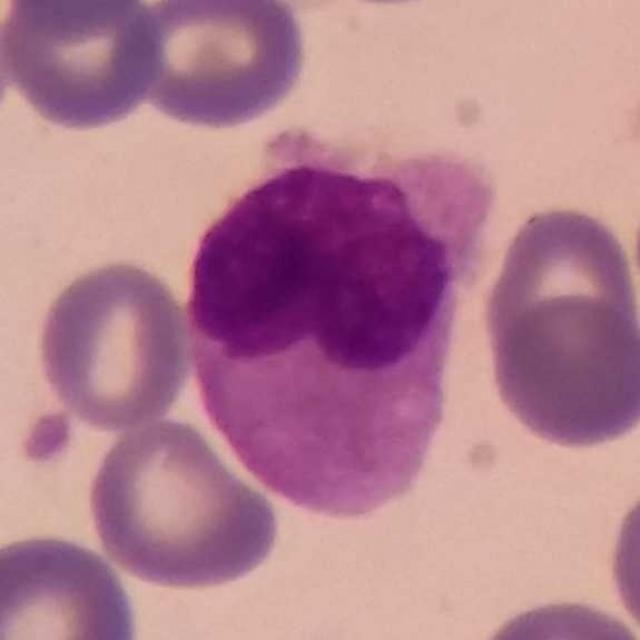mono: (181, 122, 494, 537)
